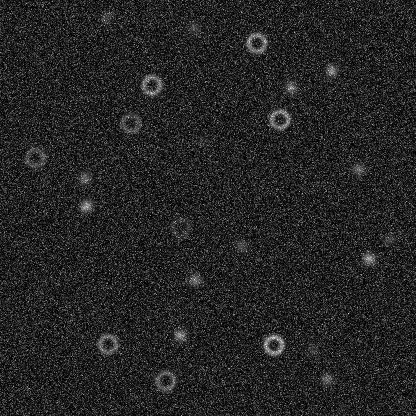Ring: (261, 332, 285, 356), (95, 331, 119, 355), (22, 145, 46, 169), (168, 215, 192, 239), (153, 368, 177, 392), (267, 107, 291, 131), (118, 110, 142, 134), (244, 30, 268, 54), (139, 72, 163, 96)
Spot: (360, 250, 376, 266), (282, 79, 298, 95), (323, 62, 339, 78), (171, 327, 187, 343), (186, 271, 202, 287), (381, 231, 397, 247), (98, 9, 114, 25), (193, 131, 209, 147), (76, 170, 92, 186), (350, 161, 366, 177), (304, 341, 320, 357), (185, 19, 201, 35), (233, 237, 249, 253), (318, 371, 334, 387), (78, 197, 94, 213)
